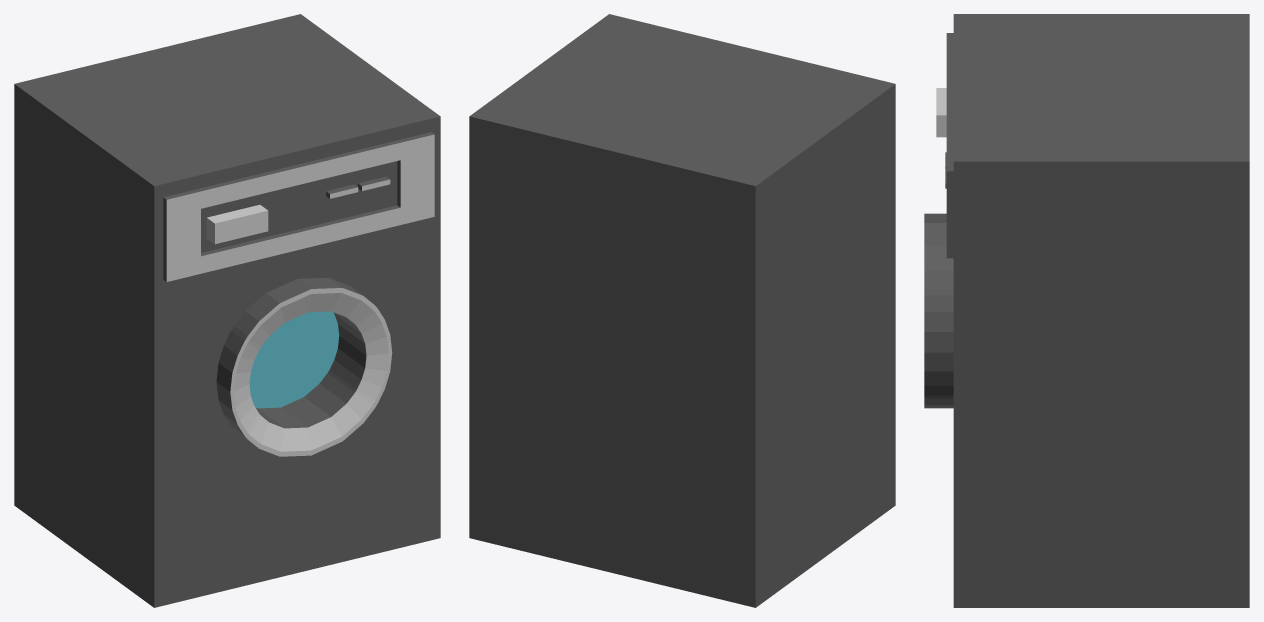
The model's file is Washer_Material.fbx.
3 views of the same model, side by side, from view 1: azimuth 30°, elevation 25°; view 2: azimuth 150°, elevation 25°; view 3: azimuth 270°, elevation 25° (orthographic). The views are drawn at different scales.
Visible parts, largest first — view 1: Washer; view 2: Washer; view 3: Washer.
Part boxes in pixels (x1,y1,x2,y2): Washer: [14, 14, 440, 607]; Washer: [469, 14, 895, 607]; Washer: [924, 14, 1249, 607].
Size of the model in its own units: 0.4835 by 0.6805 by 0.4496.
